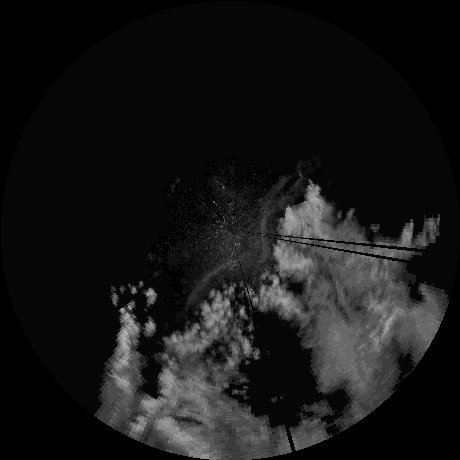frontgust: (184, 255, 250, 306), (259, 177, 300, 256)
